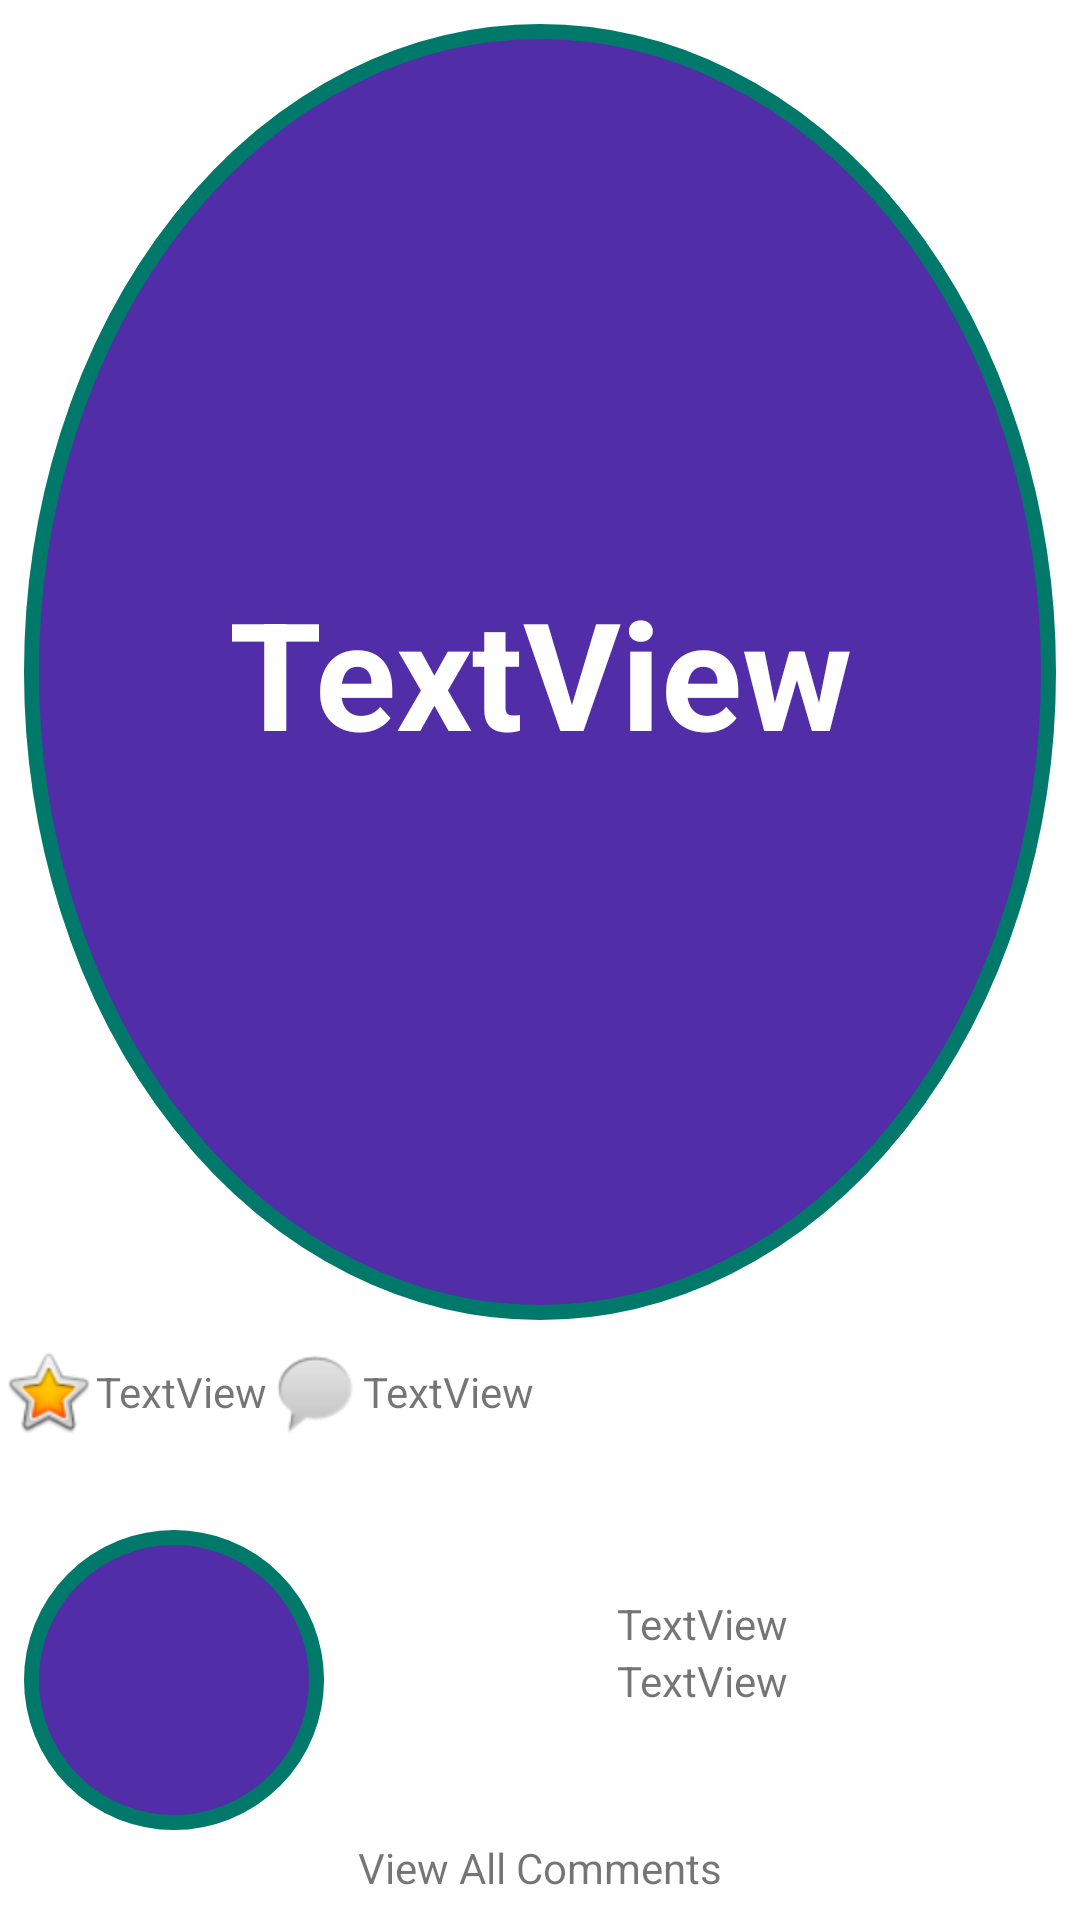

Where to tap for icons on this 1080 × 1920 app screen, as point (x, y):
star on: point (49, 1393)
sym action chat: point (314, 1393)
